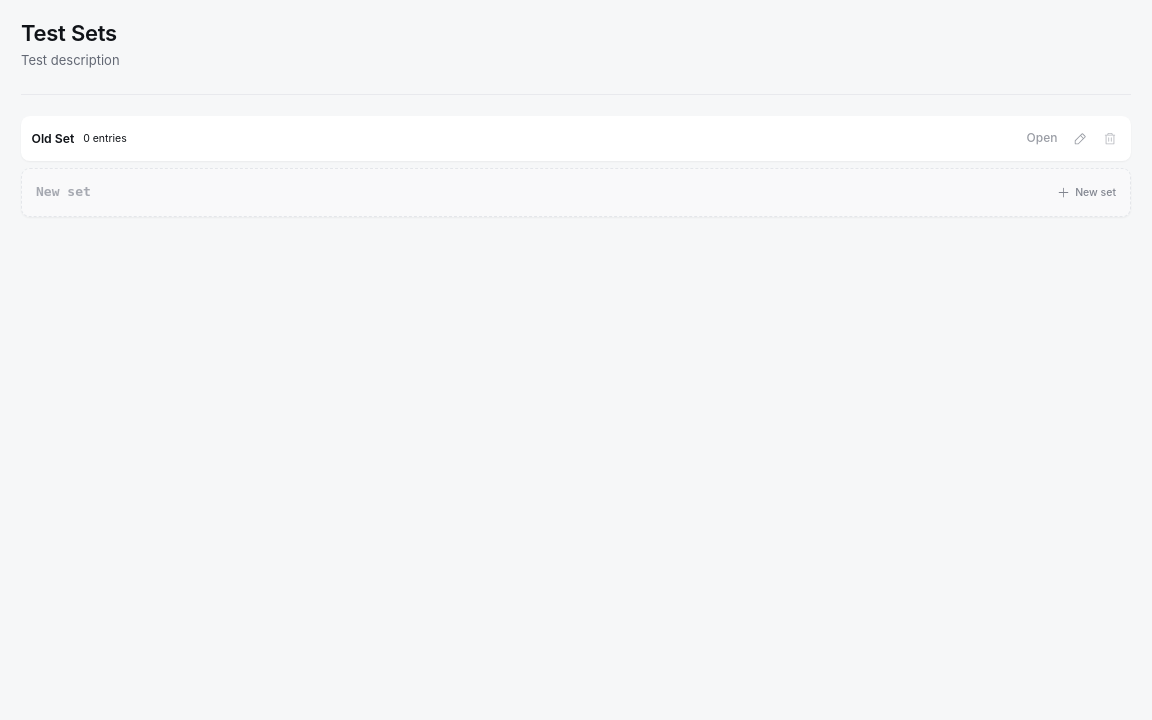
Test: SetManagementPage – delete › shows accessible dialog on delete click
This screenshot has width=1152, height=720.
Click the button named "Delete set" at coordinates (1110, 139), box top-left (1096, 125), bottom-right (1124, 153)
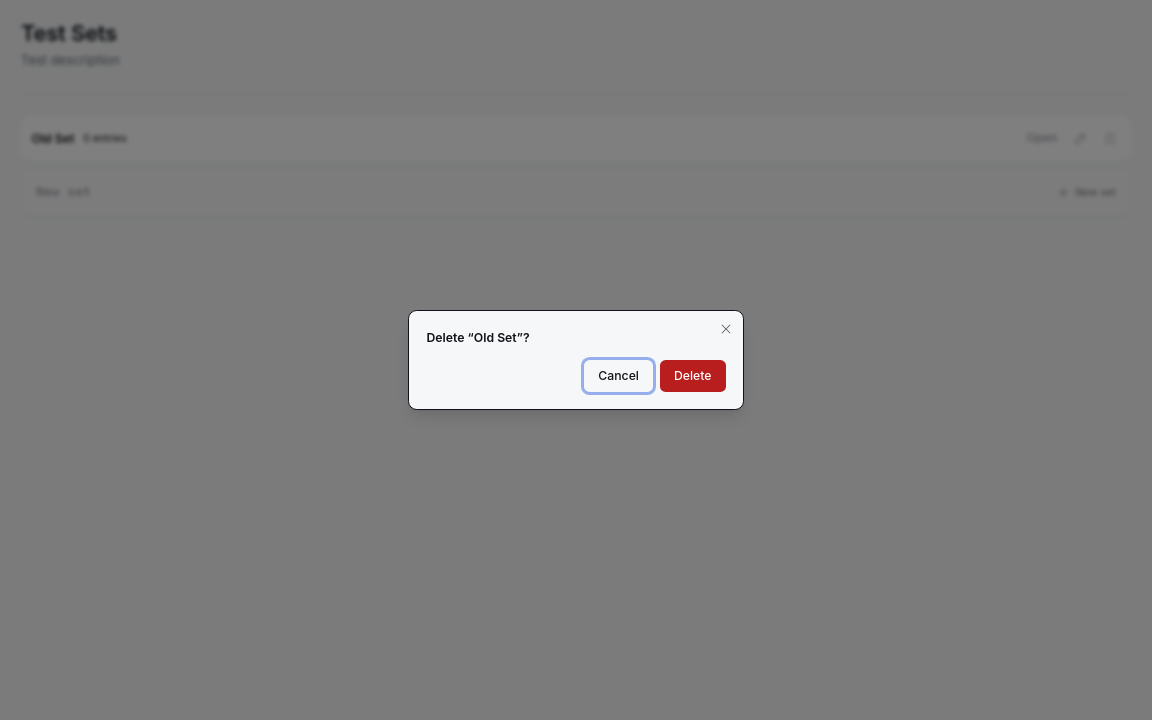
Check: the dialog is shown, box top-left (408, 310), bottom-right (744, 410)
